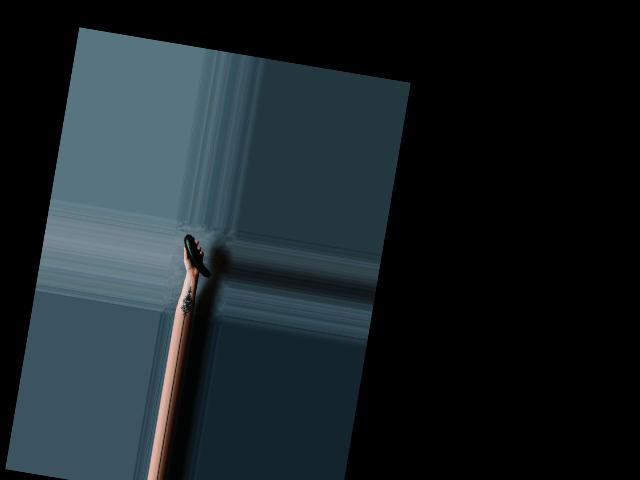cucumber: (179, 233, 216, 277)
